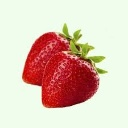strawberry: (42, 50, 101, 108), (23, 31, 84, 86)
